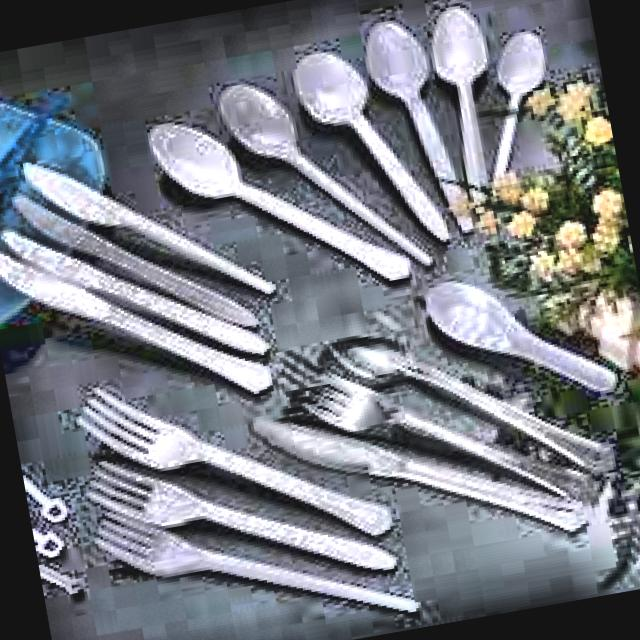plastic utensil: (88, 460, 414, 610), (78, 388, 391, 533), (149, 123, 410, 278), (0, 254, 271, 392), (222, 84, 428, 262), (1, 230, 265, 353), (23, 166, 272, 291), (14, 198, 255, 326), (293, 52, 447, 241), (366, 23, 468, 231), (432, 6, 487, 181), (496, 31, 544, 180)
